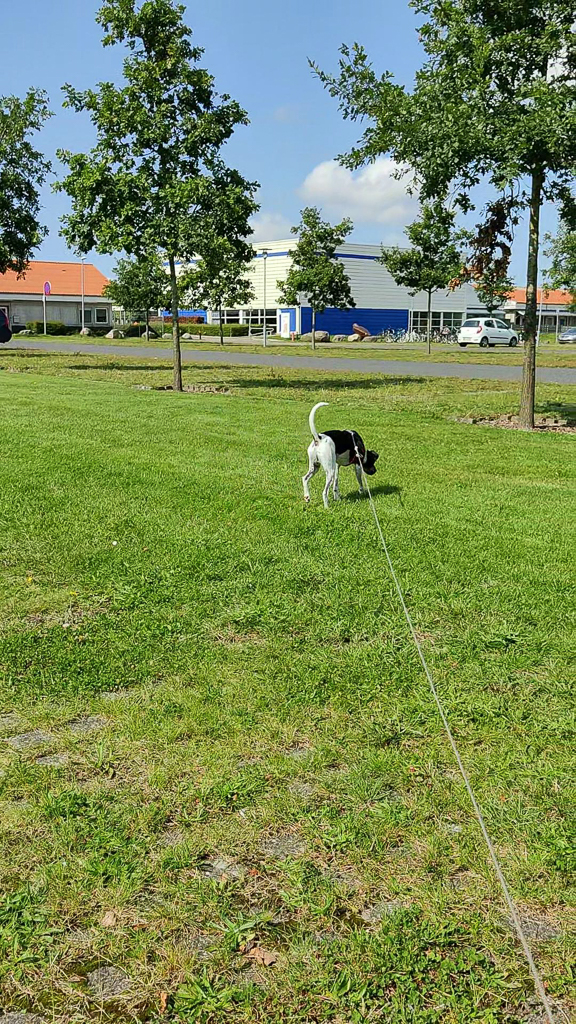Dog: (292, 394, 390, 512)
